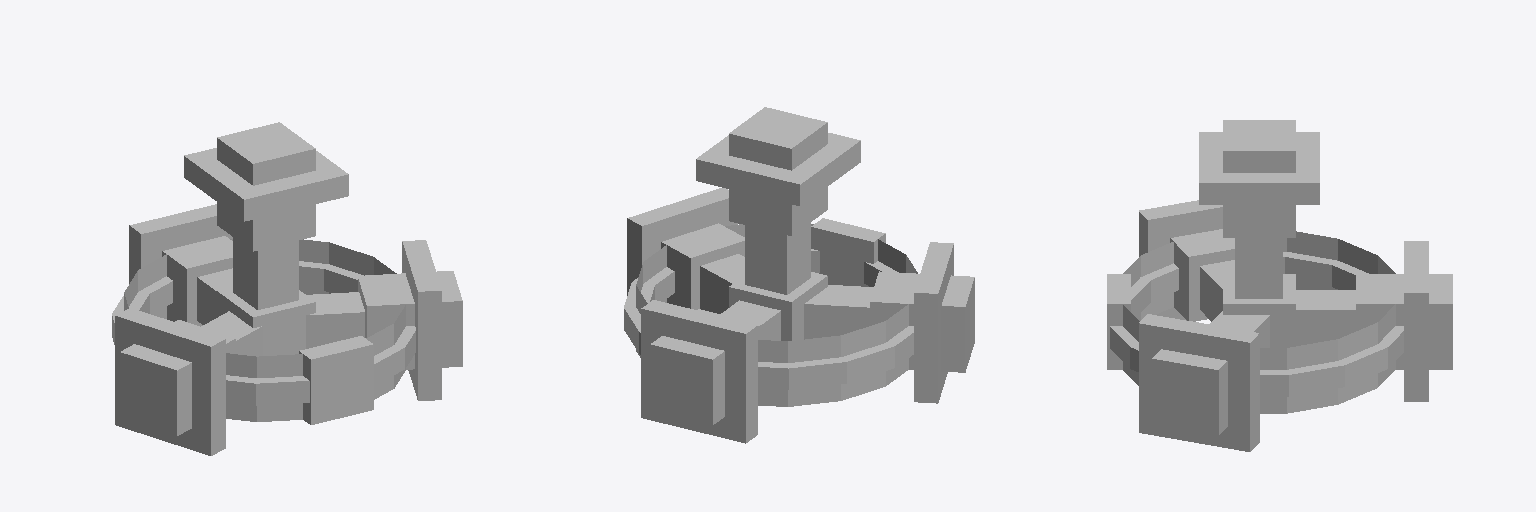
The model's file is dematerialization_circuit.obj.
3 renders of one model, left to right at view 1: azimuth 30°, elevation 25°; view 2: azimuth 150°, elevation 25°; view 3: azimuth 270°, elevation 25°, orthographic.
Parts seen in each view (by area): view 1: cube3, cube8, cube9, cube4, cube1, cube5, cube6, cube10, cube11, cube, cube12, cube7 (+14 smaller); view 2: cube11, cube8, cube9, cube12, cube4, cube3, cube6, cube10, cube5, cube1, cube2, cube (+15 smaller); view 3: cube6, cube8, cube9, cube5, cube12, cube11, cube4, cube3, cube13, cube10, cube, hexadecagon6 (+19 smaller).
Boxes of the visible parts, x1=… form: cube3: x1=115, y1=308, x2=225, y2=455; cube8: x1=217, y1=122, x2=315, y2=251; cube9: x1=184, y1=148, x2=348, y2=221; cube4: x1=120, y1=320, x2=235, y2=435; cube1: x1=299, y1=336, x2=373, y2=424; cube5: x1=358, y1=271, x2=462, y2=369; cube6: x1=402, y1=240, x2=441, y2=400; cube10: x1=233, y1=237, x2=298, y2=309; cube11: x1=129, y1=204, x2=232, y2=283; cube: x1=217, y1=287, x2=315, y2=355; cube12: x1=162, y1=236, x2=232, y2=326; cube7: x1=306, y1=292, x2=364, y2=348; cube11: x1=641, y1=300, x2=757, y2=443; cube8: x1=729, y1=107, x2=827, y2=235; cube9: x1=696, y1=133, x2=860, y2=206; cube12: x1=650, y1=309, x2=760, y2=424; cube4: x1=870, y1=271, x2=974, y2=372; cube3: x1=914, y1=242, x2=953, y2=403; cube6: x1=627, y1=188, x2=737, y2=295; cube10: x1=745, y1=223, x2=810, y2=294; cube5: x1=661, y1=223, x2=744, y2=309; cube1: x1=811, y1=218, x2=885, y2=286; cube2: x1=804, y1=285, x2=873, y2=339; cube: x1=729, y1=272, x2=827, y2=340; cube6: x1=1139, y1=314, x2=1259, y2=451; cube8: x1=1223, y1=120, x2=1295, y2=237; cube9: x1=1199, y1=132, x2=1319, y2=204; cube5: x1=1152, y1=321, x2=1255, y2=435; cube12: x1=1356, y1=274, x2=1452, y2=369; cube11: x1=1404, y1=241, x2=1428, y2=401; cube4: x1=1170, y1=229, x2=1234, y2=321; cube3: x1=1139, y1=200, x2=1222, y2=320; cube13: x1=1296, y1=290, x2=1355, y2=345; cube10: x1=1235, y1=238, x2=1282, y2=298; cube: x1=1223, y1=274, x2=1295, y2=347; hexadecagon6: x1=1286, y1=361, x2=1344, y2=396.
Bounding box in the file's own units: 0.9956 × 0.6875 × 0.8928.